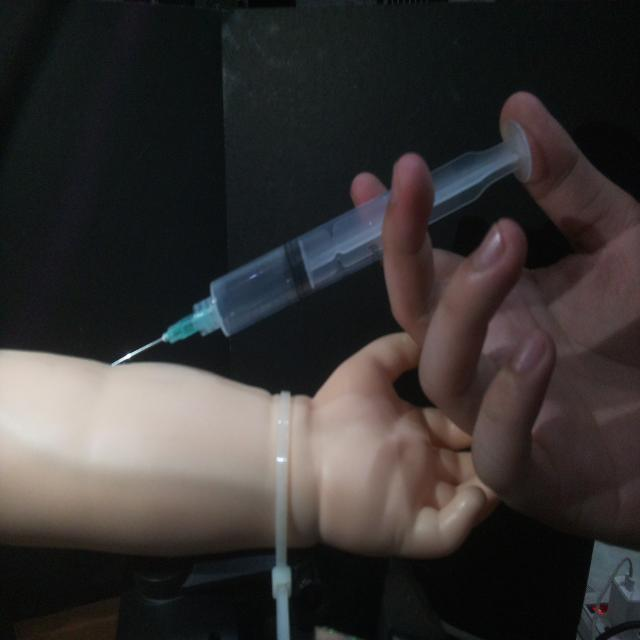24deg: (106, 116, 536, 370)
